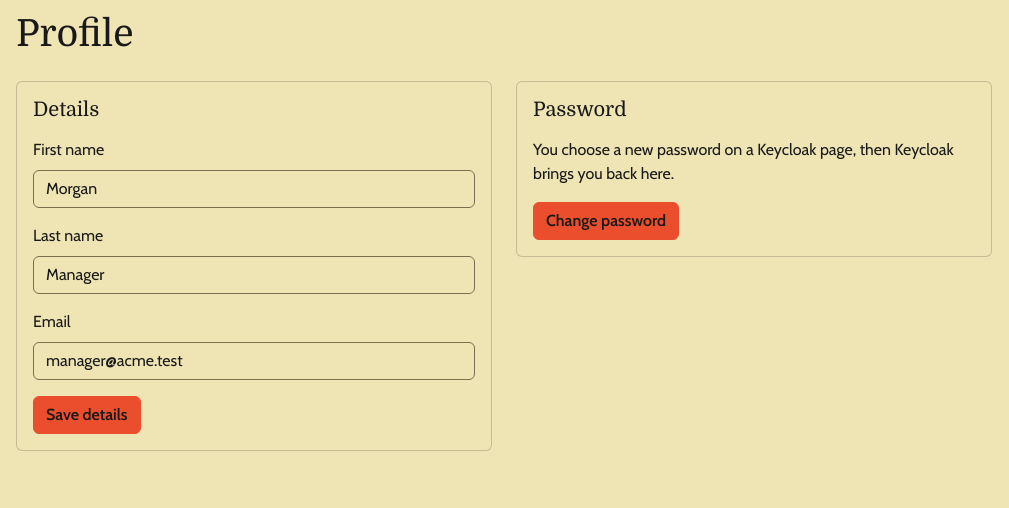
Scenario: shows the message from Keycloak when it rejects the details
This screenshot has width=1009, height=508.
Expected: the field labelled "Email" is shown, left=33, top=342, right=475, bottom=380
Click the button "Save details" at (87, 415), box left=33, top=396, right=140, bottom=434
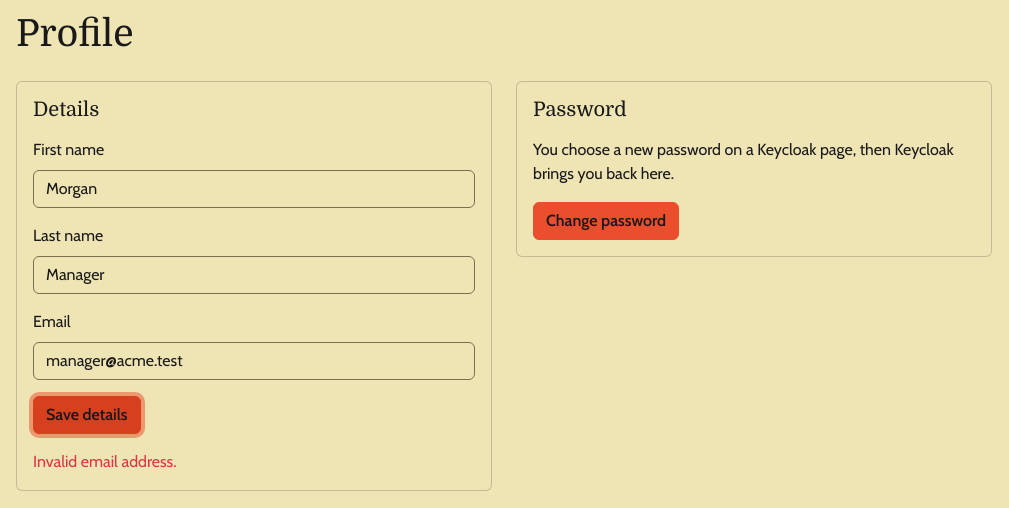
Expected: the message reads "Invalid email address.", left=33, top=452, right=176, bottom=471
